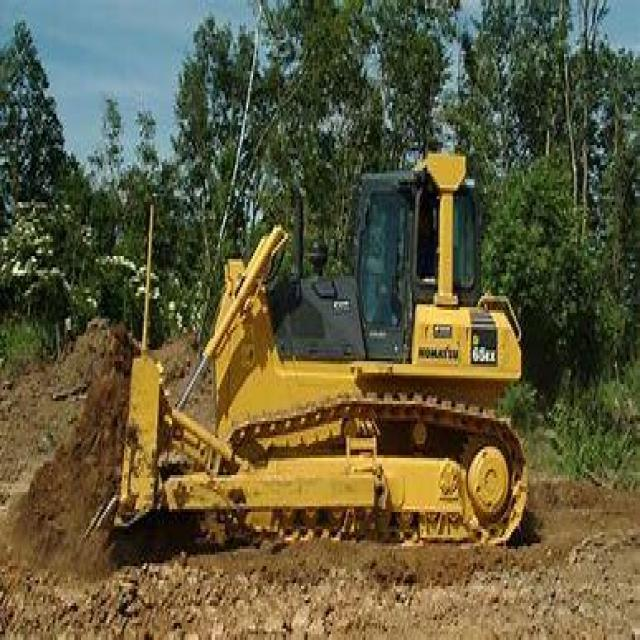Bulldozer: (82, 114, 532, 552)
